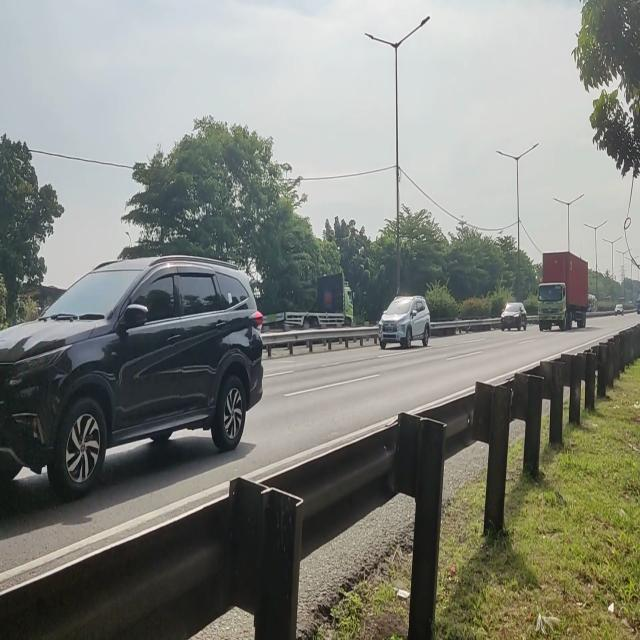Golongan I: (0, 246, 267, 505), (377, 284, 434, 358)
